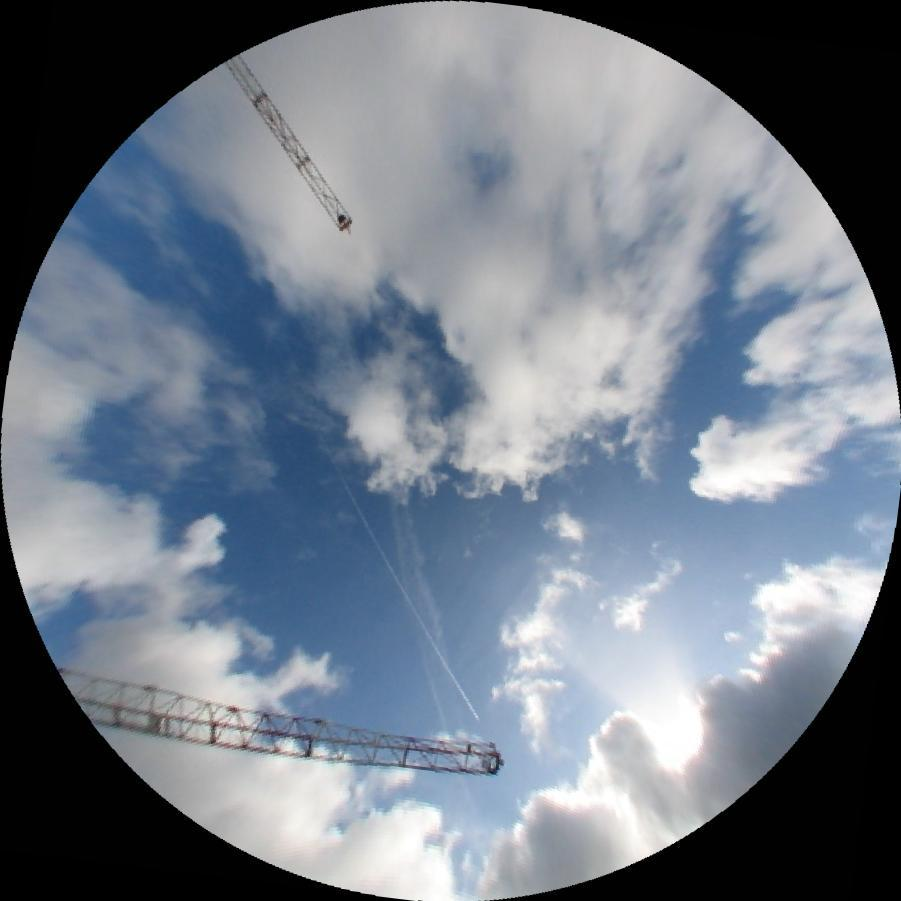contrail veryold: (376, 489, 468, 735)
contrail young: (313, 430, 481, 724)
